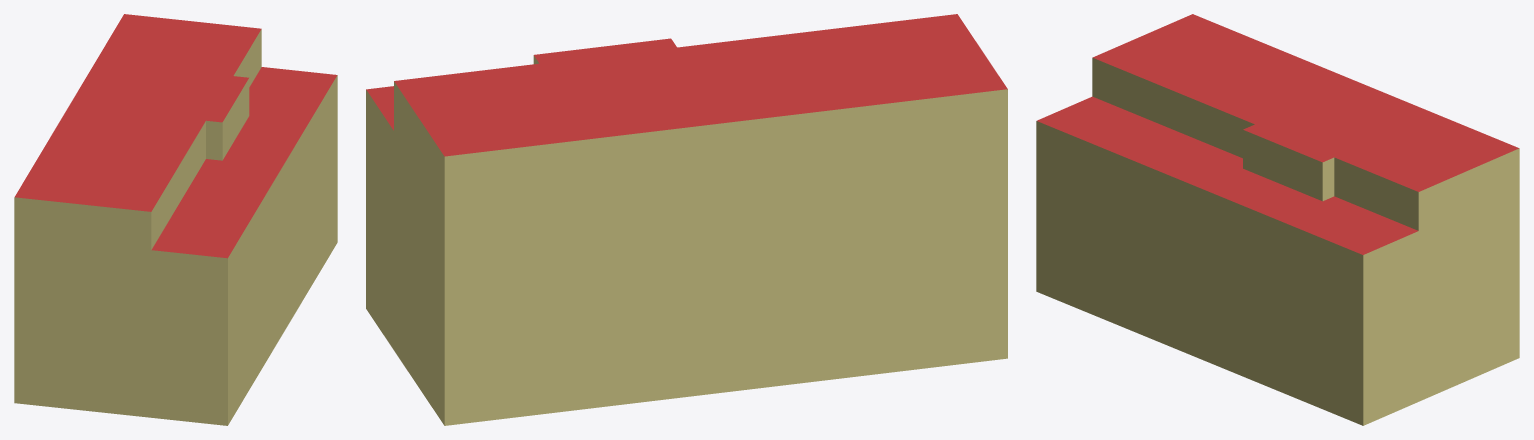
3 renders of one model, left to right at view 1: azimuth 30°, elevation 25°; view 2: azimuth 150°, elevation 25°; view 3: azimuth 270°, elevation 25°, orthographic. The views are drawn at different scales.
Parts seen in each view (by area): view 1: group_4, group_7, group_3, group_6; view 2: group_4, group_3, group_7, group_6; view 3: group_7, group_4, group_3, group_6.
Part boxes in pixels (x1,y1,x2,y2): group_4: [14, 29, 261, 417]; group_7: [151, 75, 337, 425]; group_3: [15, 14, 261, 211]; group_6: [151, 67, 337, 258]; group_4: [394, 55, 1007, 425]; group_3: [394, 14, 1007, 156]; group_7: [366, 90, 393, 349]; group_6: [366, 86, 393, 130]; group_7: [1036, 121, 1418, 425]; group_4: [1092, 57, 1519, 401]; group_3: [1093, 14, 1518, 191]; group_6: [1037, 96, 1417, 254].
Size of the model in its own units: 25.41 by 25.66 by 12.29.
